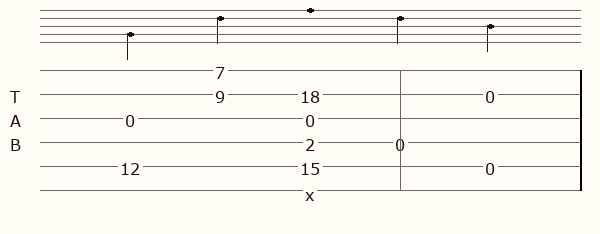0: (125, 110, 139, 126), (305, 110, 319, 126), (395, 134, 409, 150), (485, 158, 499, 174), (485, 86, 499, 102)
12: (120, 158, 144, 174)
15: (300, 158, 324, 174)
18: (300, 86, 324, 102)
2: (305, 134, 319, 150)
7: (215, 62, 229, 78)
9: (215, 86, 229, 102)
x: (305, 184, 318, 197)
